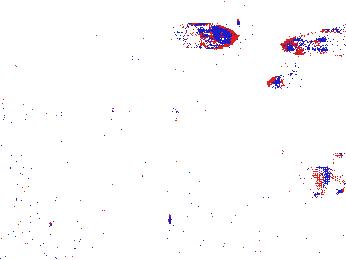X-ray fish: (165, 19, 237, 51), (91, 93, 142, 127)
red belly glassfish: (121, 43, 138, 68)
redtail glassfish: (280, 25, 346, 57), (264, 62, 313, 94), (315, 151, 346, 199)
